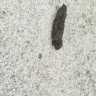Dog: (53, 4, 68, 50)
